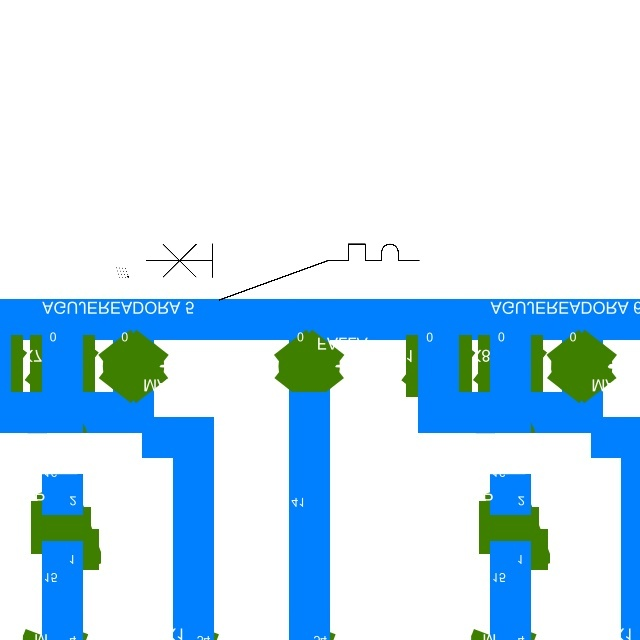interruptor_termomagnetico: (139, 237, 425, 307)
